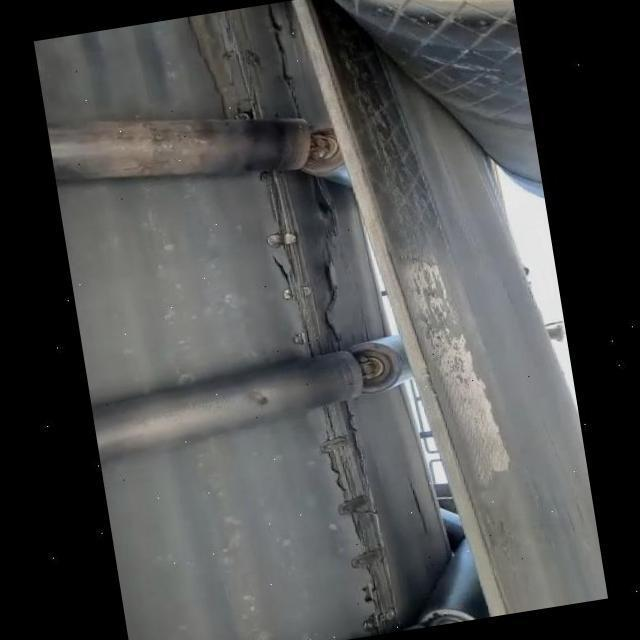Tear: (298, 394, 410, 635), (250, 167, 356, 356), (182, 4, 312, 122)
